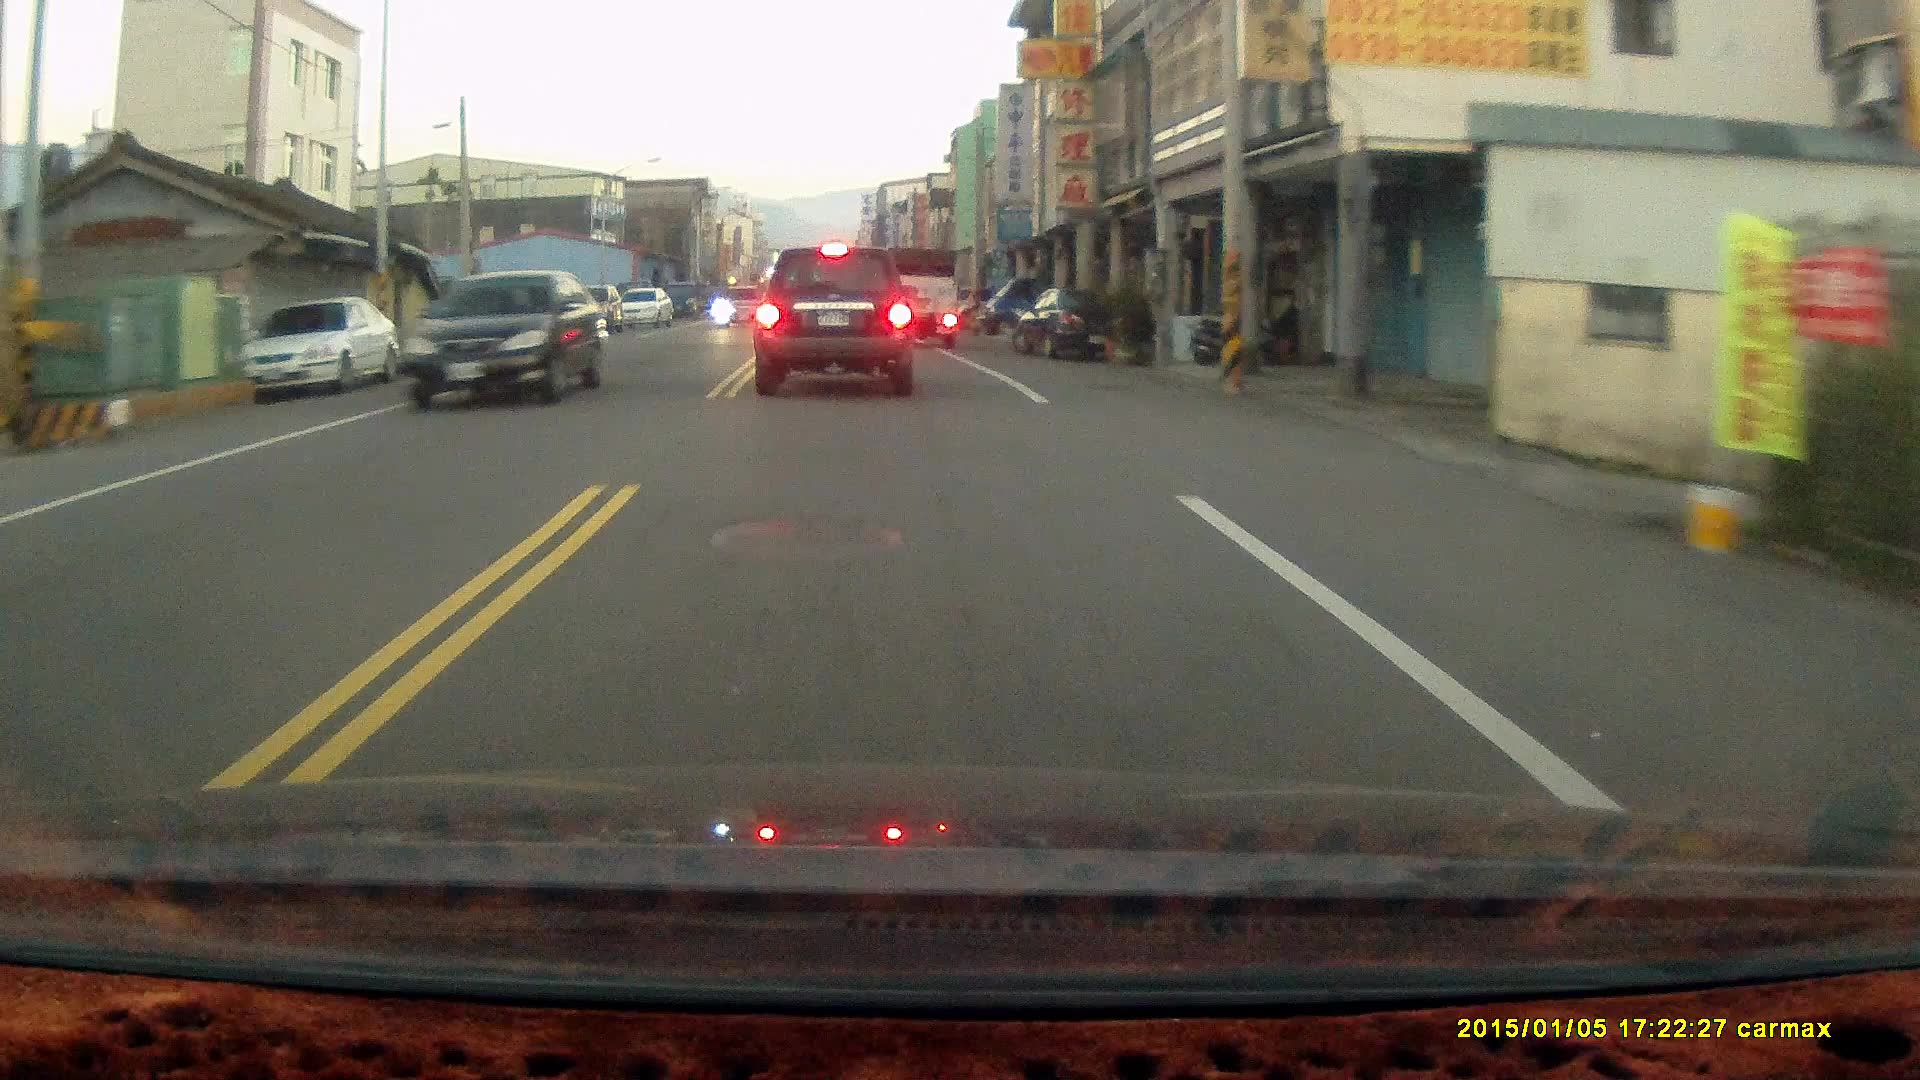vehicle: (396, 272, 604, 415), (752, 247, 918, 404), (237, 297, 400, 398), (1018, 291, 1139, 368), (882, 255, 963, 357), (709, 284, 778, 330), (615, 287, 674, 334)
